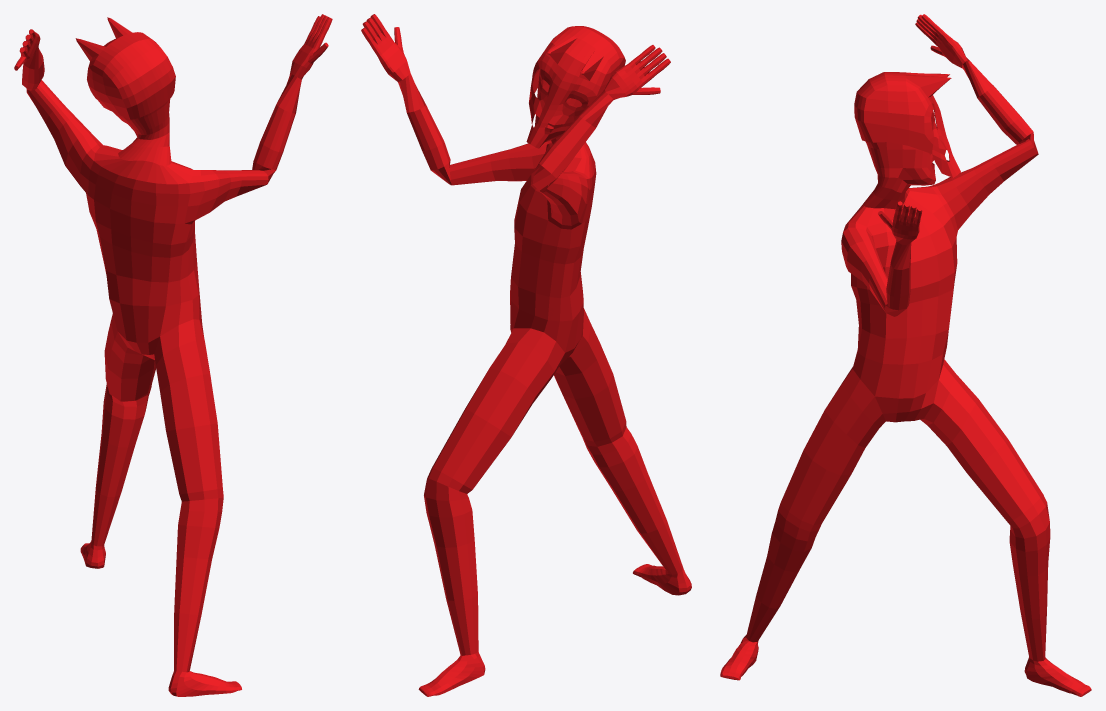
The model's file is activaAlarma_000216.obj.
3 views of the same model, side by side, from view 1: azimuth 30°, elevation 25°; view 2: azimuth 150°, elevation 25°; view 3: azimuth 270°, elevation 25° (orthographic). The views are drawn at different scales.
Parts seen in each view (by area): view 1: Plane.002_Plane.001; view 2: Plane.002_Plane.001; view 3: Plane.002_Plane.001.
Boxes of the visible parts, x1,y1,x2,y2 form: Plane.002_Plane.001: (14, 14, 332, 696); Plane.002_Plane.001: (361, 14, 691, 696); Plane.002_Plane.001: (720, 14, 1091, 696).
Size of the model in its own units: 3.59 by 6.95 by 3.81.
